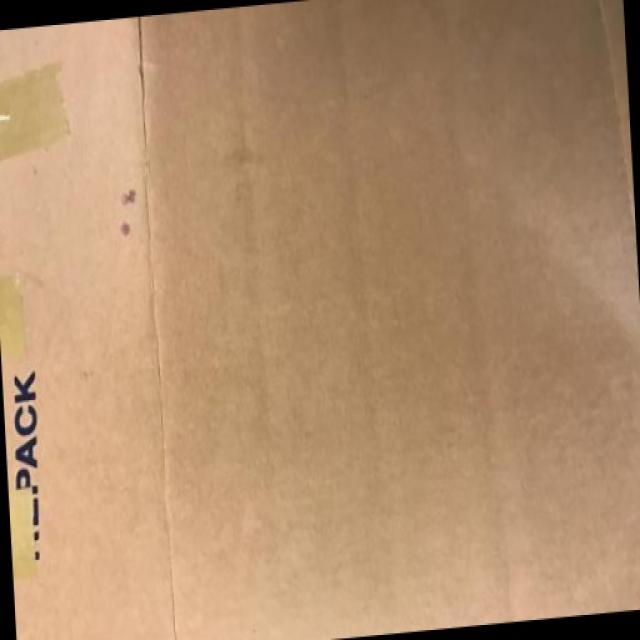carton: (37, 11, 640, 638)
